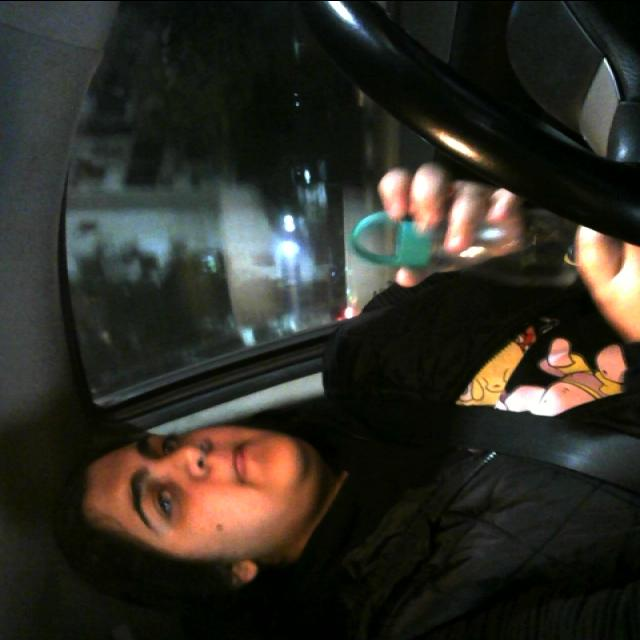drinking: (344, 192, 614, 274)
